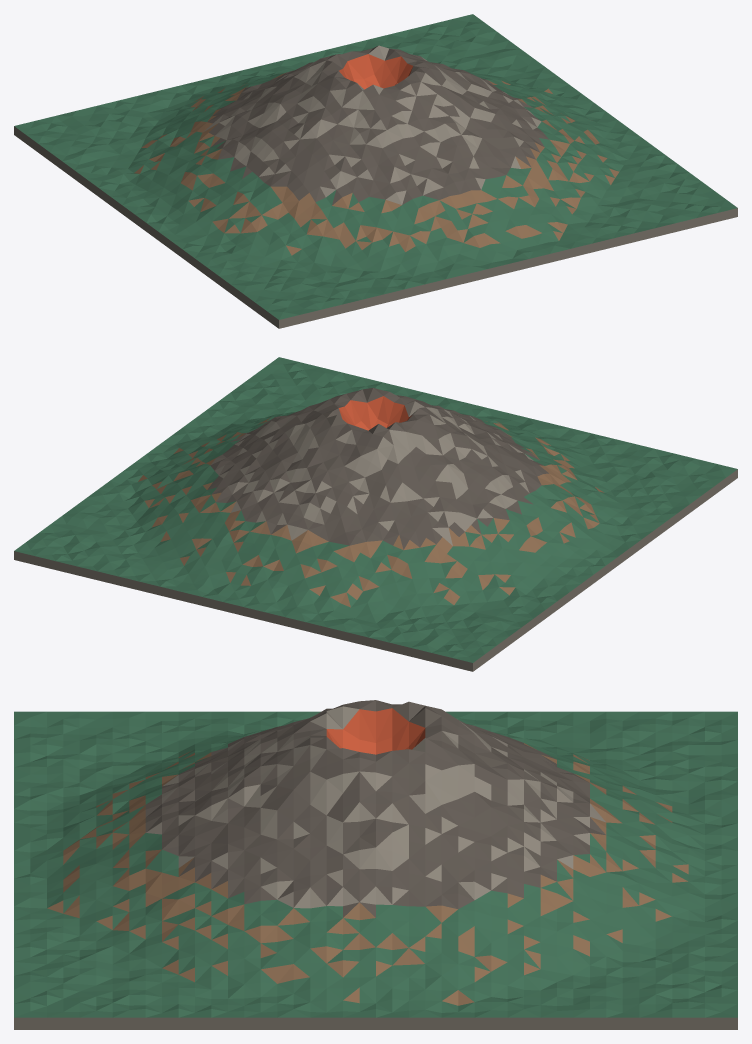
File: TERRAIN_06.obj
3 renders of one model, top to bottom at view 1: azimuth 30°, elevation 25°; view 2: azimuth 150°, elevation 25°; view 3: azimuth 270°, elevation 25°, orthographic. The views are drawn at different scales.
Visible parts, largest first — view 1: TERRAIN_06; view 2: TERRAIN_06; view 3: TERRAIN_06.
Boxes of the visible parts, left/top/right/bottom form: TERRAIN_06: left=14, top=14, right=737, bottom=328; TERRAIN_06: left=14, top=357, right=737, bottom=671; TERRAIN_06: left=14, top=700, right=737, bottom=1029.
Size of the model in its own units: 108 by 25.52 by 108.
